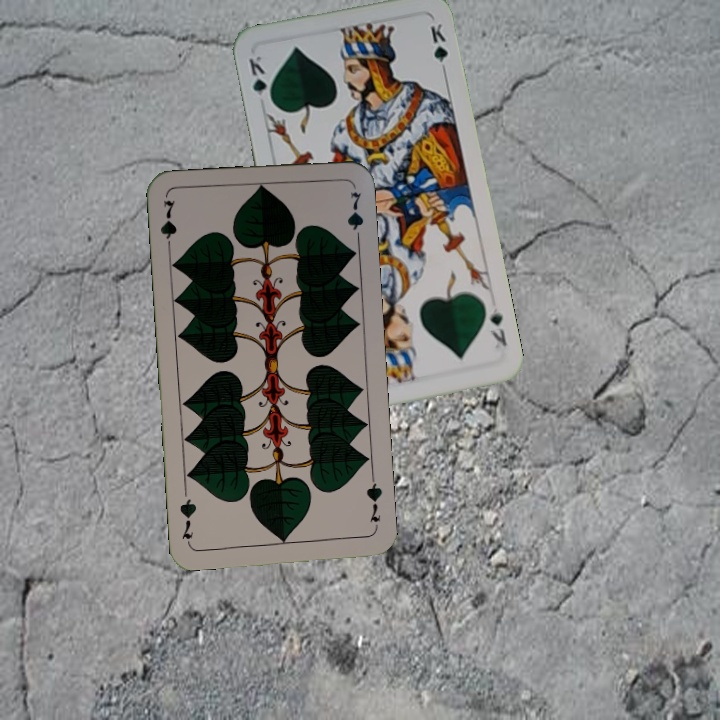G7: (156, 196, 180, 255), (362, 473, 385, 525)
GK: (244, 51, 275, 107), (486, 304, 510, 351)
